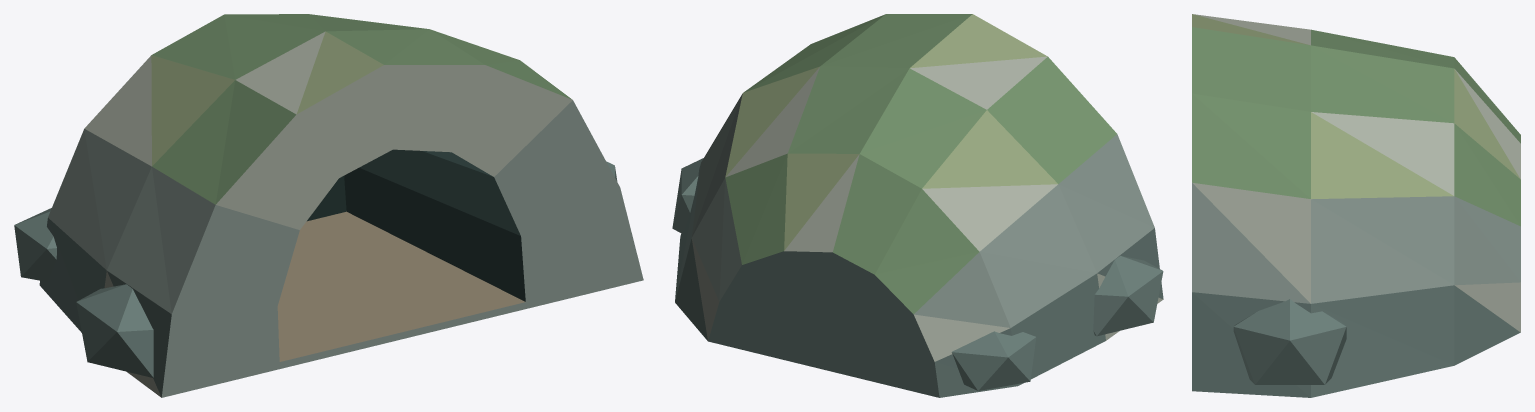
3 views of the same model, side by side, from view 1: azimuth 30°, elevation 25°; view 2: azimuth 150°, elevation 25°; view 3: azimuth 270°, elevation 25° (orthographic). The views are drawn at different scales.
Parts seen in each view (by area): view 1: Cave rock shelter; view 2: Cave rock shelter; view 3: Cave rock shelter.
Boxes of the visible parts, x1,y1,x2,y2 form: Cave rock shelter: (14,14,643,397); Cave rock shelter: (672,14,1163,397); Cave rock shelter: (1192,14,1520,397).
Bounding box in the file's own units: 8 × 3.95 × 4.7.
Materials: 1 (1 with a texture image).
